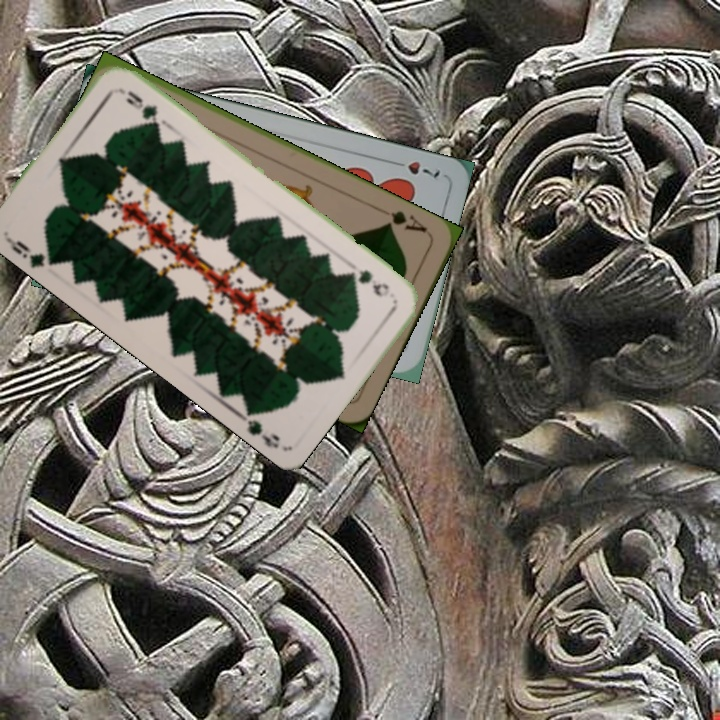G9: (2, 233, 60, 270), (354, 265, 393, 300)
GA: (381, 206, 430, 236)
H7: (386, 157, 442, 181)
